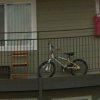Bicycle: (32, 40, 99, 89)
